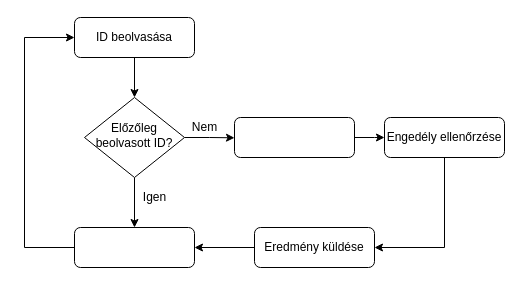
This 522x285 diagram has some shape labels left out. The shapes that lost their labels are listed below. From the top down, each one's box as (x1, y1, x2, y2) in pixels, then its label:
(234, 116, 354, 158): Masternek elküldés
(74, 226, 194, 268): Eredmény alapján LED villantása
